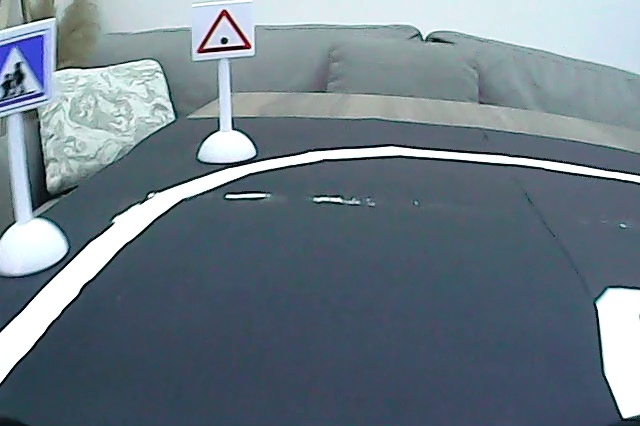green light: (194, 6, 255, 56)
school crossing: (1, 29, 52, 113)
